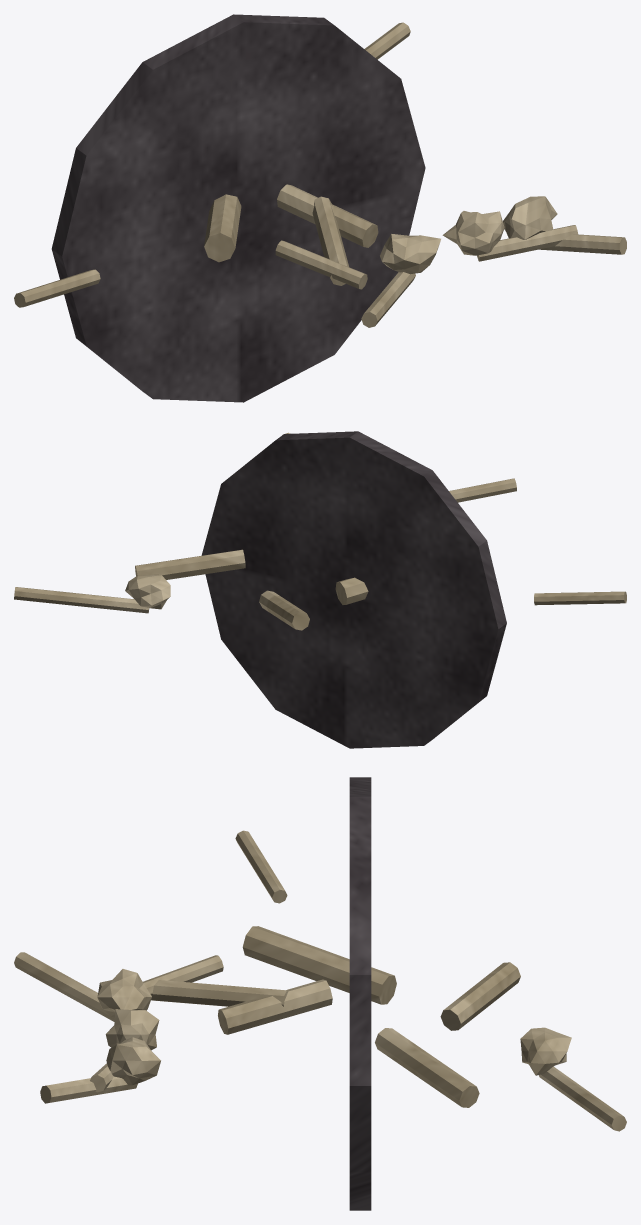
Rendered from 0236_bone_heap_11.glb.
3 views of the same model, one above another, from view 1: azimuth 30°, elevation 25°; view 2: azimuth 150°, elevation 25°; view 3: azimuth 270°, elevation 25° (orthographic). The views are drawn at different scales.
Visible parts, largest first — view 1: ash, bone; view 2: ash, bone; view 3: bone, ash.
Part boxes in pixels (left/top/right/bottom): ash: left=51, top=14, right=425, bottom=402; bone: left=14, top=22, right=626, bottom=327; ash: left=201, top=431, right=506, bottom=748; bone: left=14, top=432, right=626, bottom=630; bone: left=14, top=830, right=626, bottom=1131; ash: left=349, top=777, right=371, bottom=1210.
Size of the model in its own units: 2.51 by 1.6 by 2.25.
Materials: 2 (2 with a texture image).
